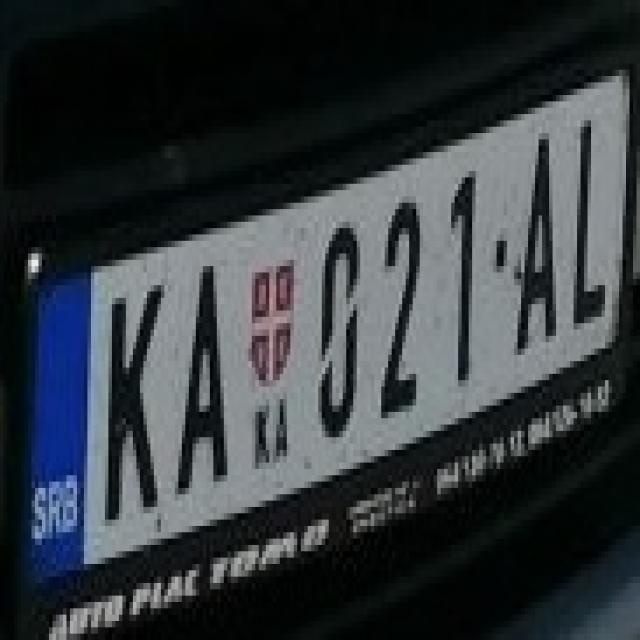0: (304, 202, 367, 438)
1: (430, 146, 490, 380)
2: (367, 177, 430, 412)
A: (161, 240, 238, 494), (504, 114, 566, 349)
K: (87, 260, 168, 520)
L: (556, 95, 623, 323)
